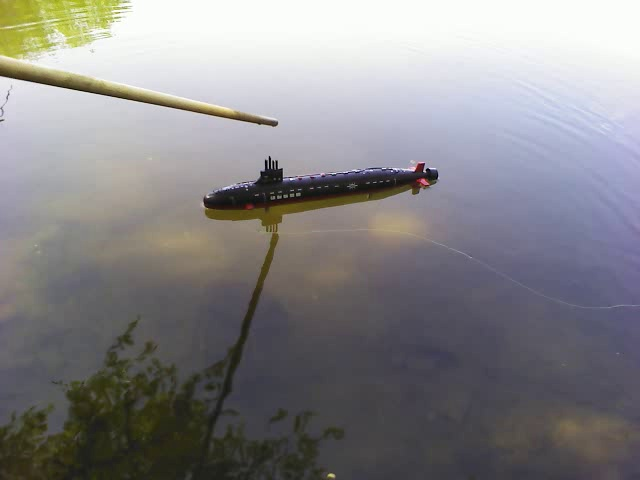submarine: (199, 156, 444, 215)
